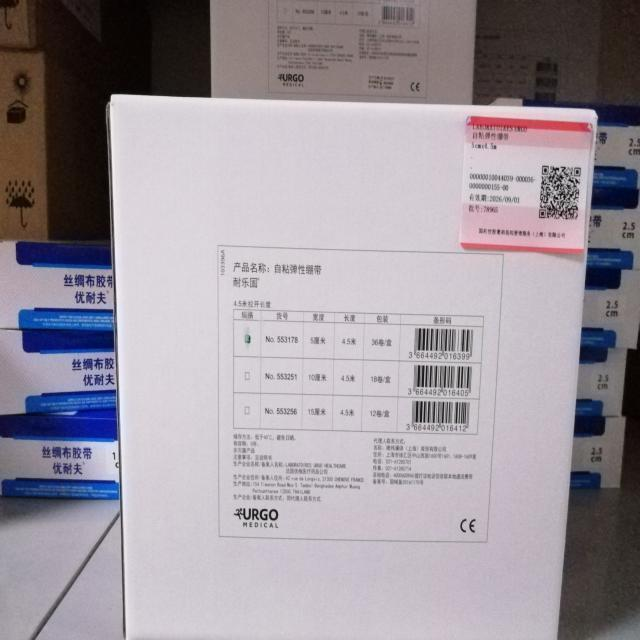box: (108, 97, 597, 640), (208, 0, 481, 102), (3, 52, 109, 234), (0, 416, 119, 503), (2, 240, 115, 330), (0, 331, 121, 415), (0, 0, 110, 66), (581, 269, 640, 354), (586, 190, 639, 270), (574, 416, 628, 494), (574, 339, 623, 419), (597, 109, 640, 189)
